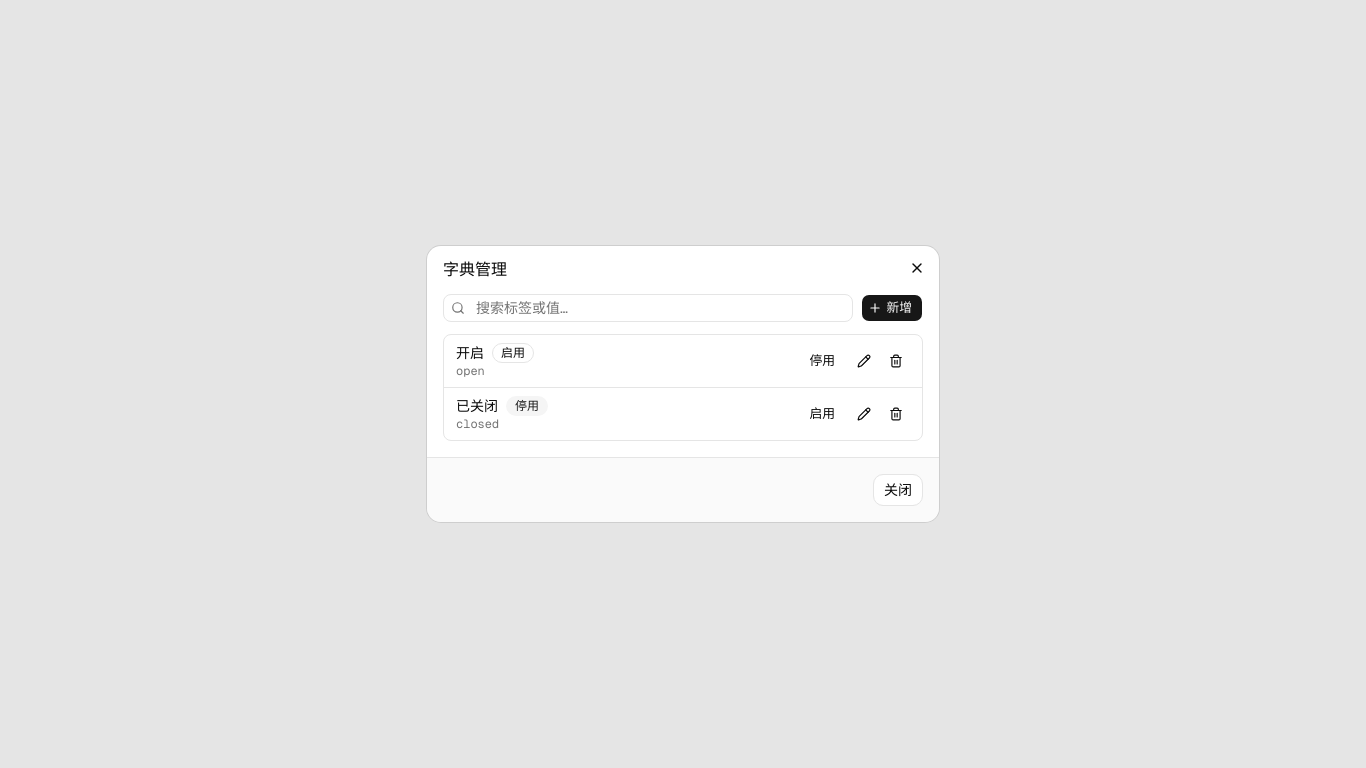
Scenario: DictManageDialog › filters by search
The image size is (1366, 768).
Type "开" into the field with placeholder "搜索标签或值…" at point(648, 308), box [443,294,853,322]
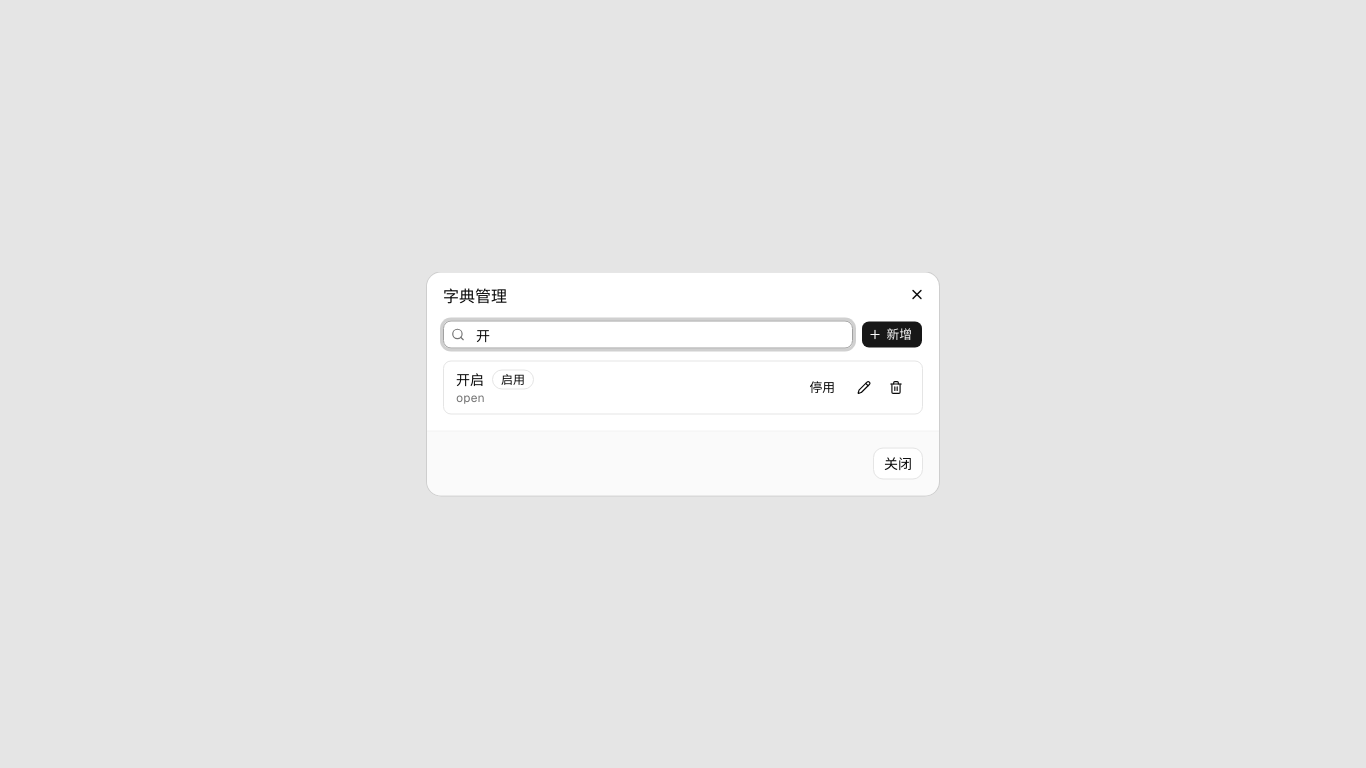
Expected: the text "开启" is shown, [456,370,484,390]
Result: the text "已关闭" is gone
